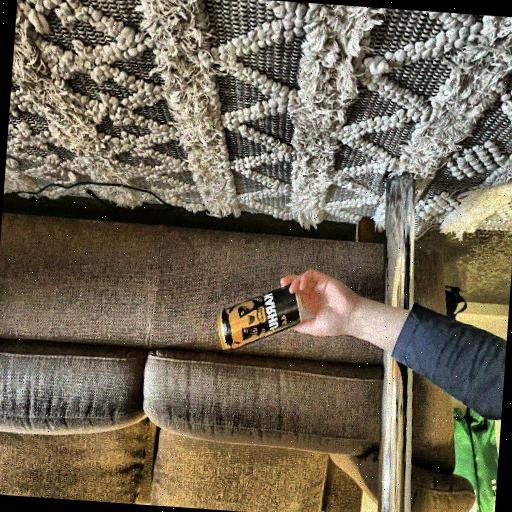karhu: (211, 274, 312, 359)
